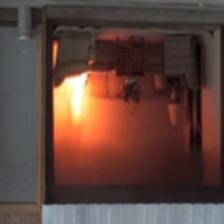fire: (53, 77, 106, 150)
